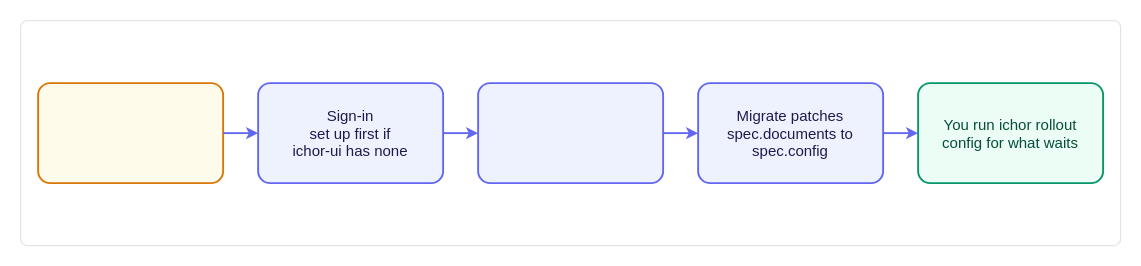
Some shapes in this 1141 by 266 pixel diagram are drawn without their labels. The box of each missing label's shape, as (x1, y1, x2, y2) in pixels:
Checks, may refuse downgrade, stored fields, installer check, plan: (37, 82, 224, 184)
Installer Job writes CRDs, controller, ichor-ui: (477, 82, 664, 184)
